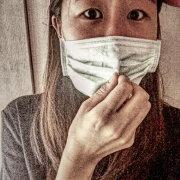WRONG: (61, 2, 163, 104)
